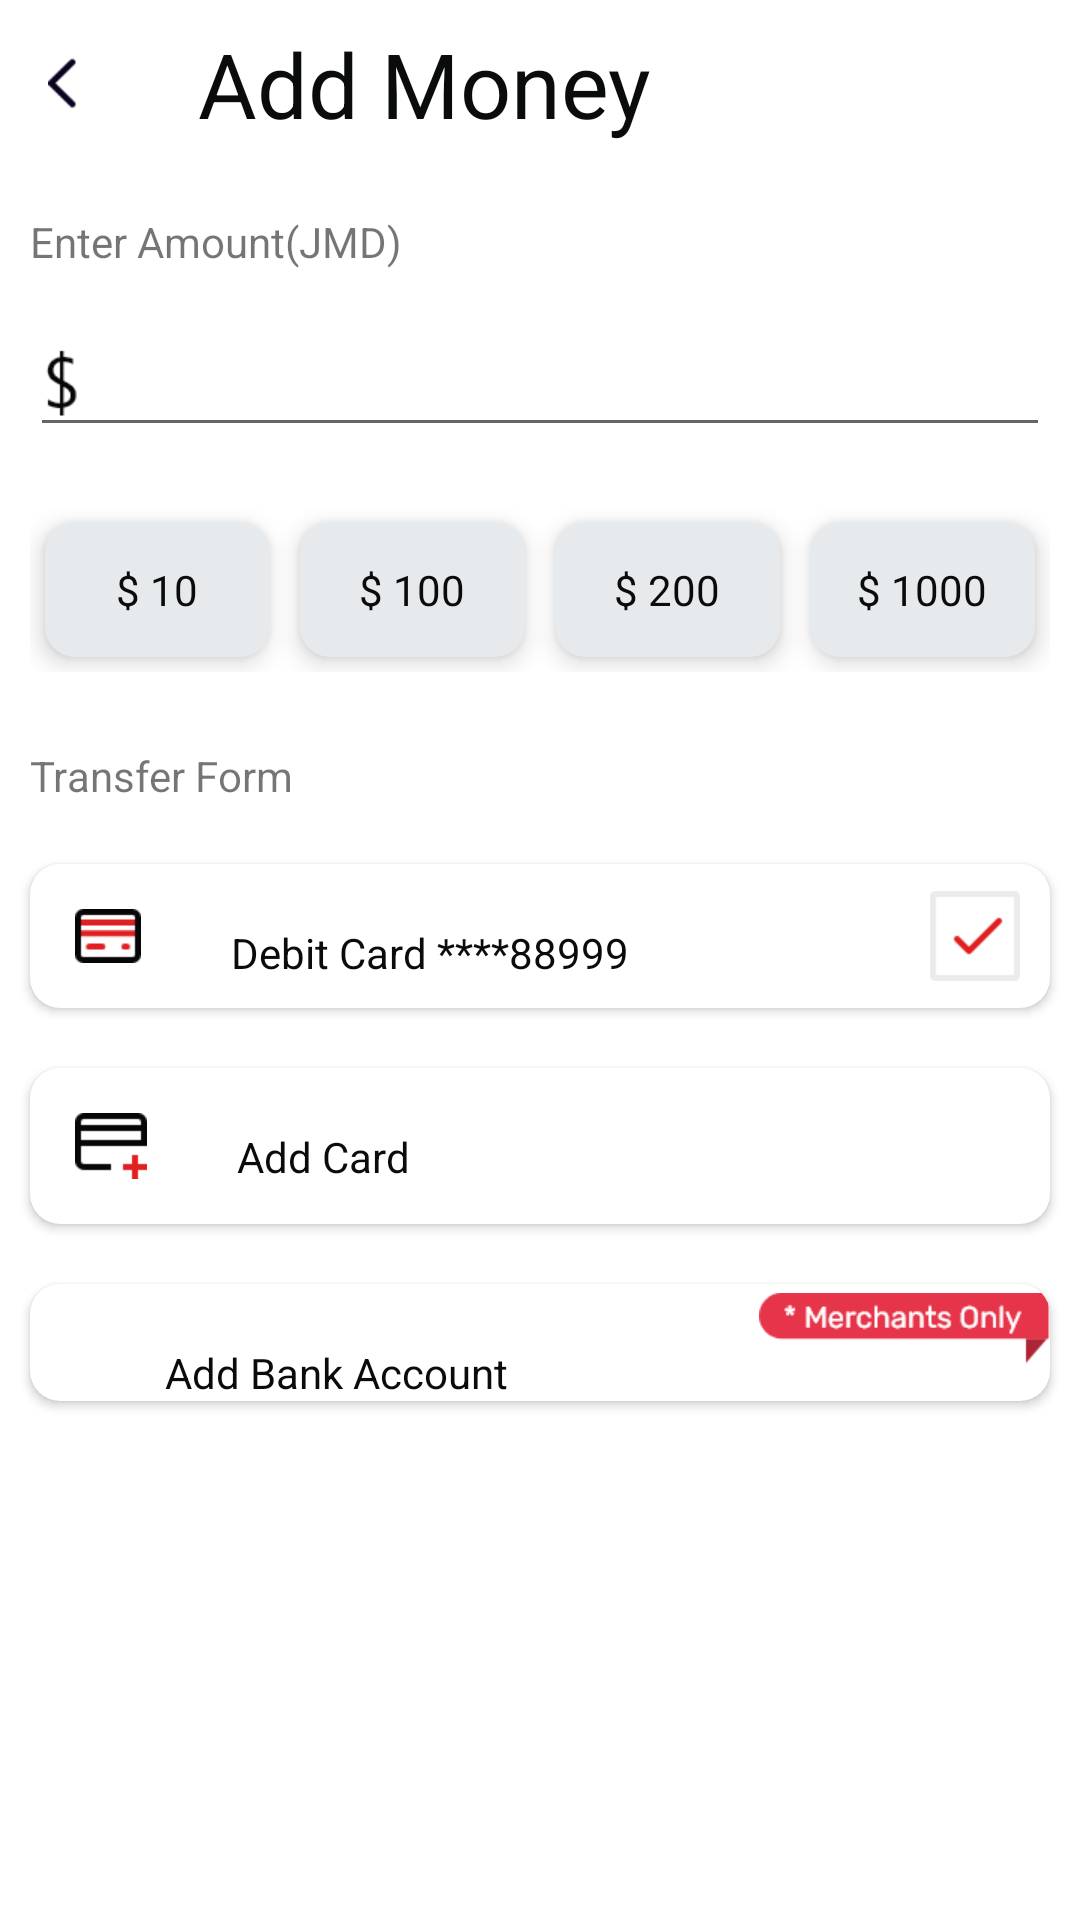

Named icons in this screenshot (1080*1920) and their centers, [x,y]:
tick: [978,936]
